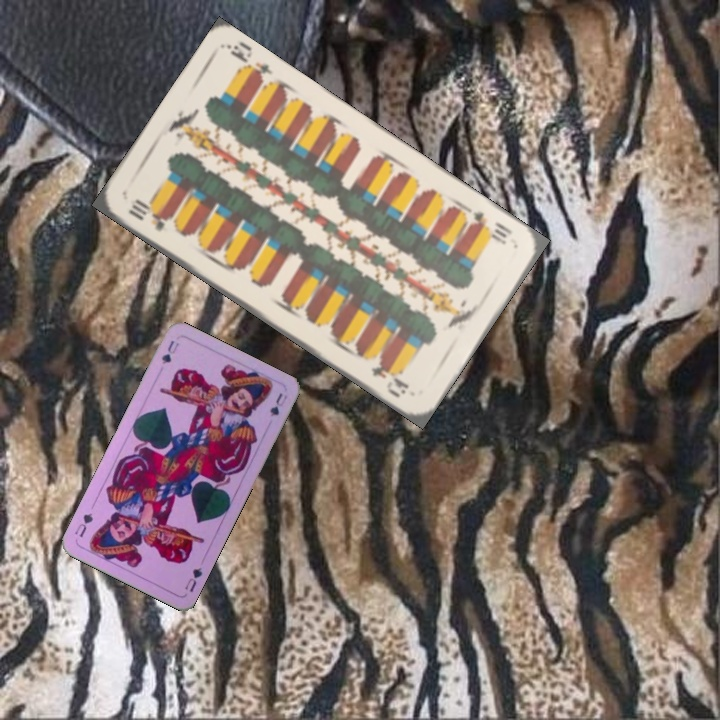E10: (124, 194, 179, 234), (466, 207, 516, 248)
GU: (181, 563, 205, 595), (157, 336, 181, 367)
